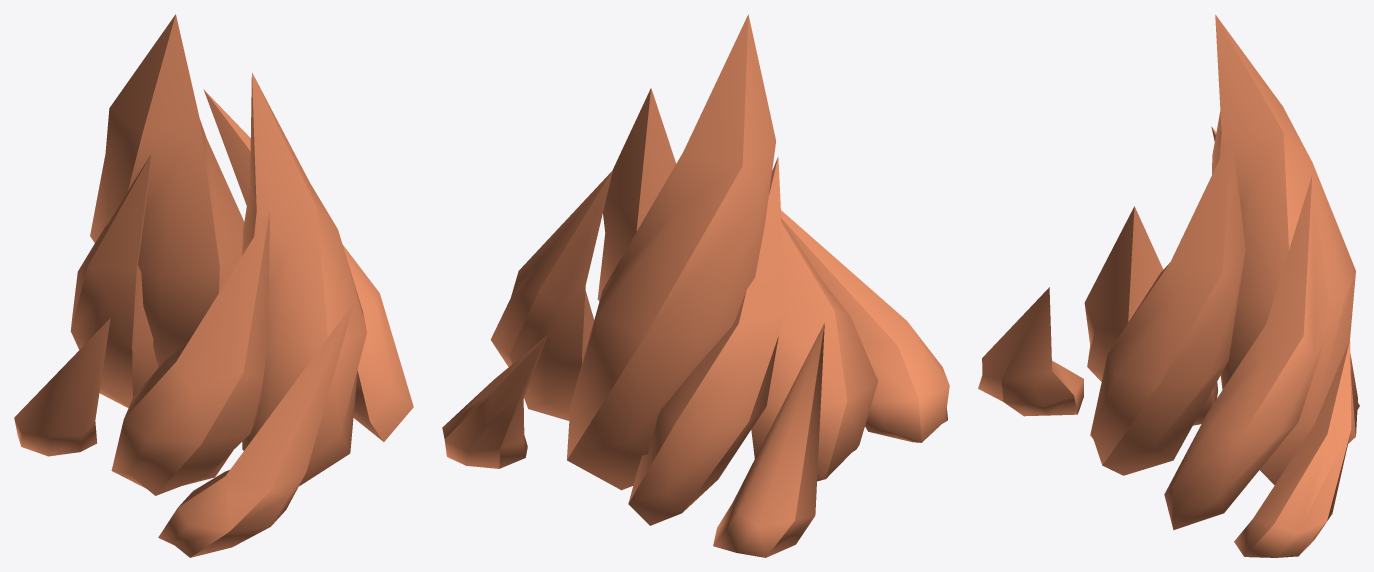
The model's file is rock08.fbx.
3 views of the same model, side by side, from view 1: azimuth 30°, elevation 25°; view 2: azimuth 150°, elevation 25°; view 3: azimuth 270°, elevation 25° (orthographic). The views are drawn at different scales.
Parts seen in each view (by area): view 1: rock_08; view 2: rock_08; view 3: rock_08.
Boxes of the visible parts, left/top/right/bottom form: rock_08: left=14, top=14, right=413, bottom=557; rock_08: left=442, top=14, right=949, bottom=557; rock_08: left=978, top=14, right=1359, bottom=557.
Size of the model in its own units: 3.05 by 3.65 by 2.91.
1 material, 1 textured.
